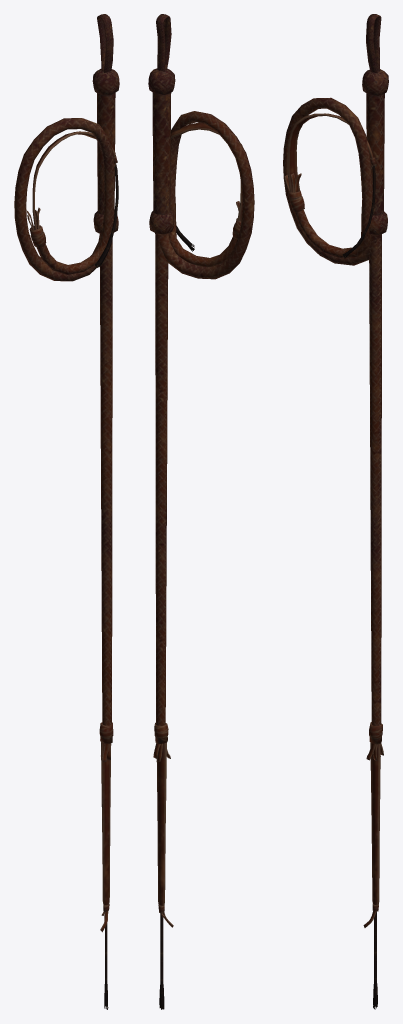
Rendered from weapon-wp_a_1200.glb.
3 renders of one model, left to right at view 1: azimuth 30°, elevation 25°; view 2: azimuth 150°, elevation 25°; view 3: azimuth 330°, elevation 25°, orthographic.
Parts seen in each view (by area): view 1: wp_a_1200_mesh; view 2: wp_a_1200_mesh; view 3: wp_a_1200_mesh.
Boxes of the visible parts, x1=… form: wp_a_1200_mesh: x1=14, y1=14, x2=119, y2=1009; wp_a_1200_mesh: x1=148, y1=14, x2=254, y2=1009; wp_a_1200_mesh: x1=283, y1=14, x2=388, y2=1009.
Bounding box in the file's own units: 0.2693 × 2.47 × 0.0882.
Materials: 2 (2 with a texture image).
